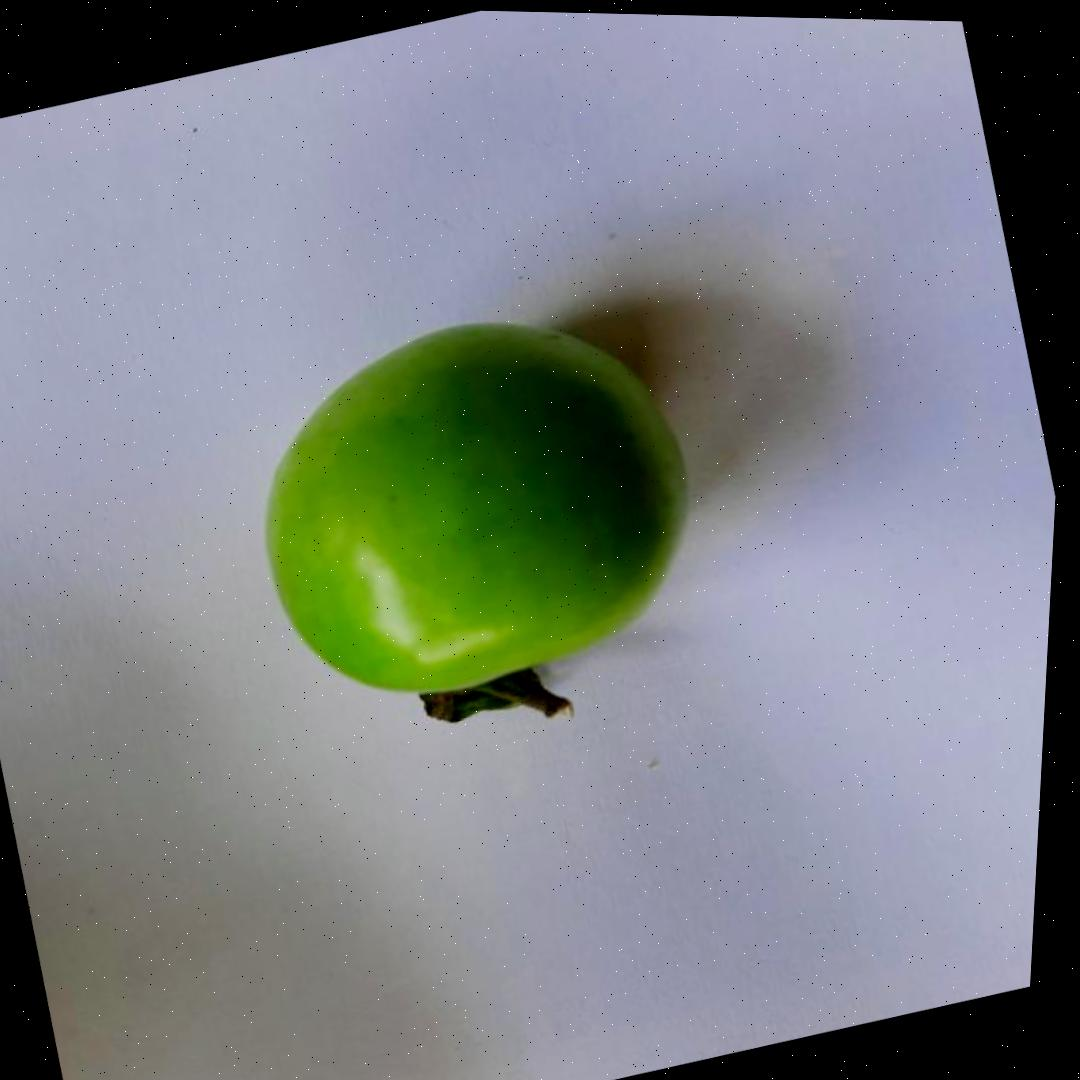mentah: (208, 270, 751, 788)
